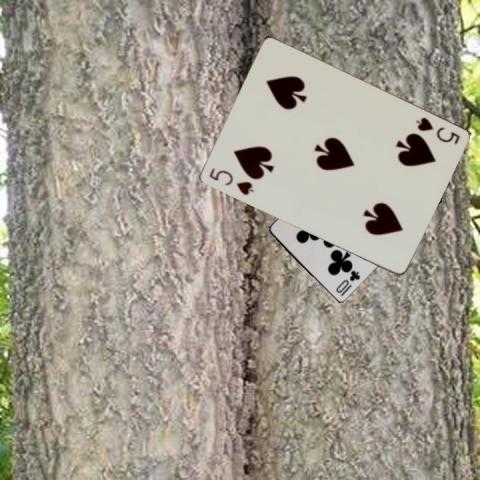10c: (333, 267, 361, 298)
5s: (206, 165, 255, 197), (412, 114, 461, 146)
